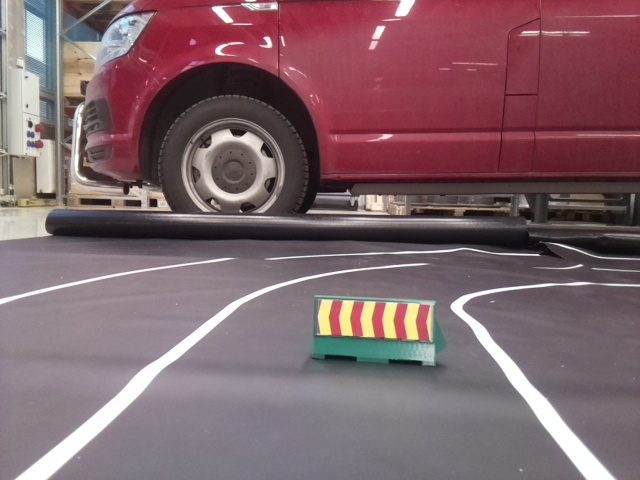ClosedRoadStand: (311, 295, 435, 363)
